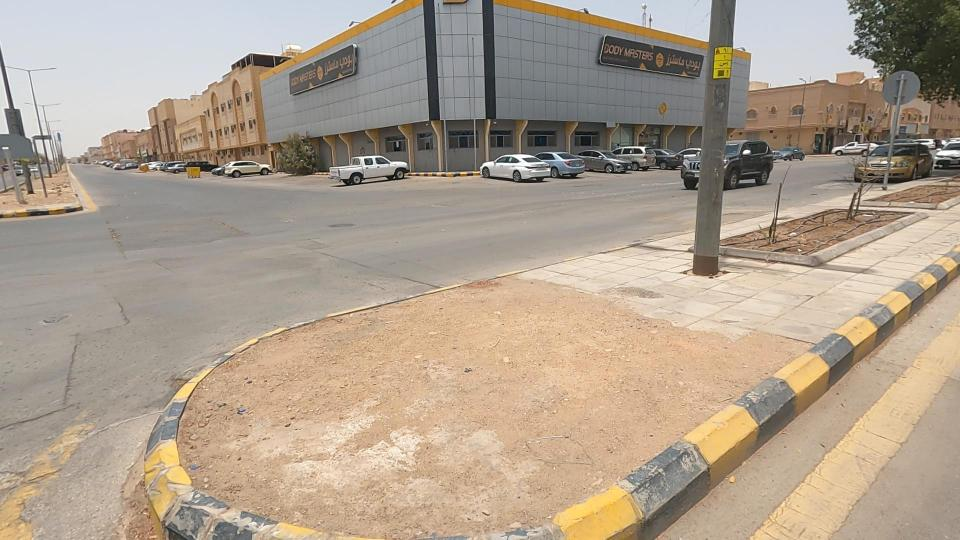CLUTTER_SIDEWALK: (37, 201, 904, 540)
